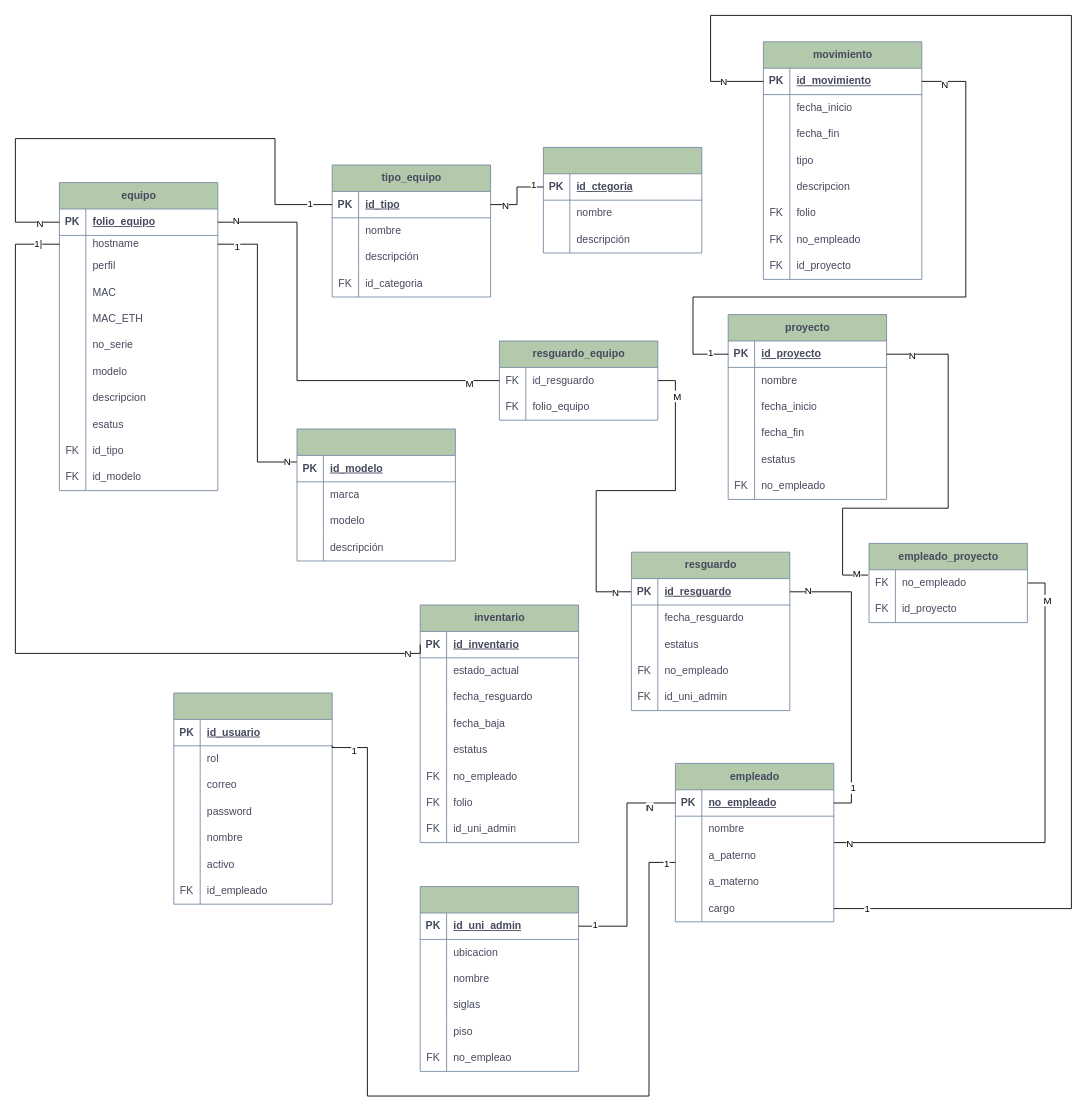
The diagram is 1088 pixels wide and 1112 high, and some of its shapes have lost their labels. Here are the shapes that lost their labels. From the top down, the box of each, then its label:
(543, 147, 702, 253): categoria_equipo
(296, 428, 455, 561): modelo_equipo
(173, 692, 332, 904): usuaio
(419, 886, 579, 1071): unidad_admin
